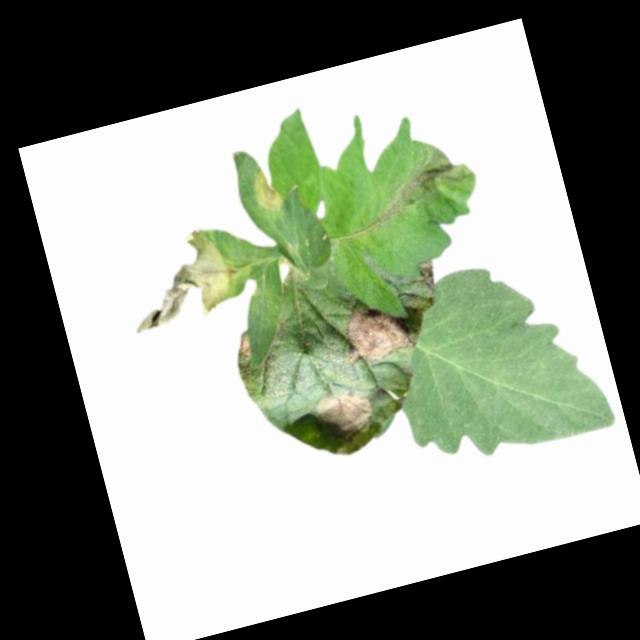Late_blight: (115, 223, 245, 336), (381, 137, 482, 217), (330, 289, 418, 371), (311, 385, 383, 448), (247, 160, 290, 217), (415, 258, 440, 290), (234, 333, 256, 366)
healthy: (372, 242, 618, 478)
